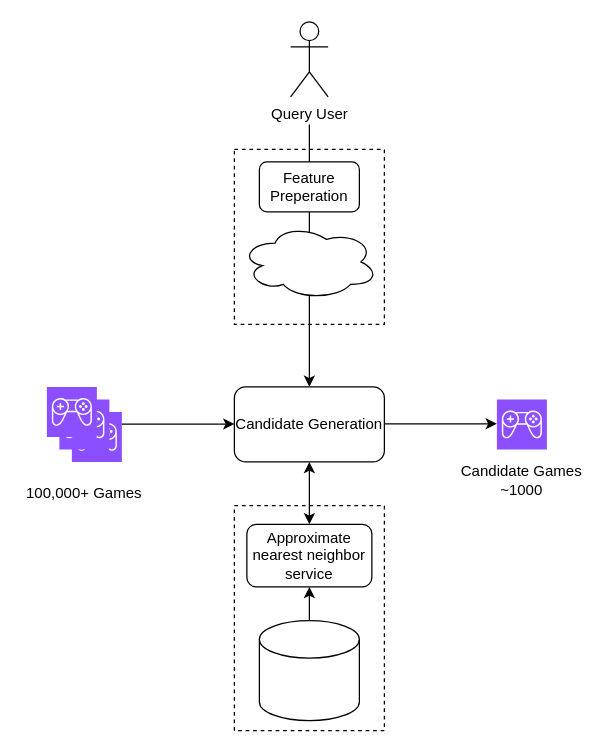
Some shapes in this 605 by 753 pixel diagram are drawn without their labels. Here are the shapes that lost their labels. From the top down, the centre of each, then its label:
pixel 308 261: User Encoder
pixel 308 670: Indexed Game Embeddings
